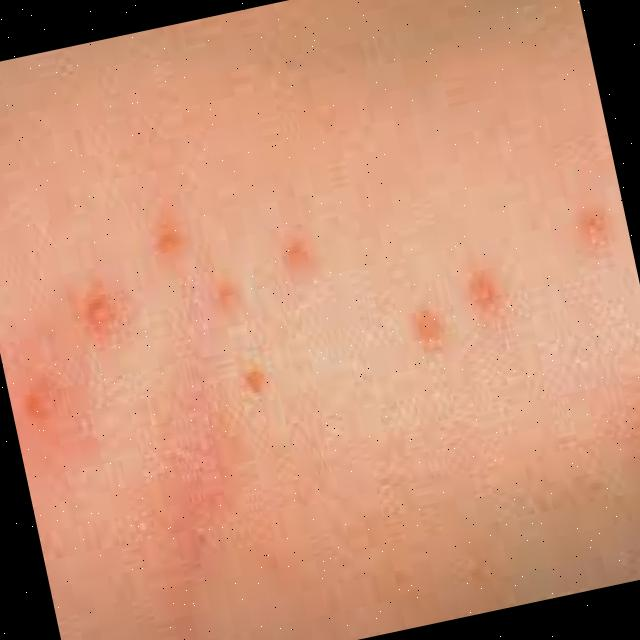tahta-kurusu: (1, 337, 96, 490), (50, 255, 139, 380), (260, 187, 334, 327), (115, 189, 226, 278), (386, 273, 470, 390), (218, 349, 296, 450), (564, 180, 630, 291), (452, 252, 521, 343), (202, 248, 267, 318)
